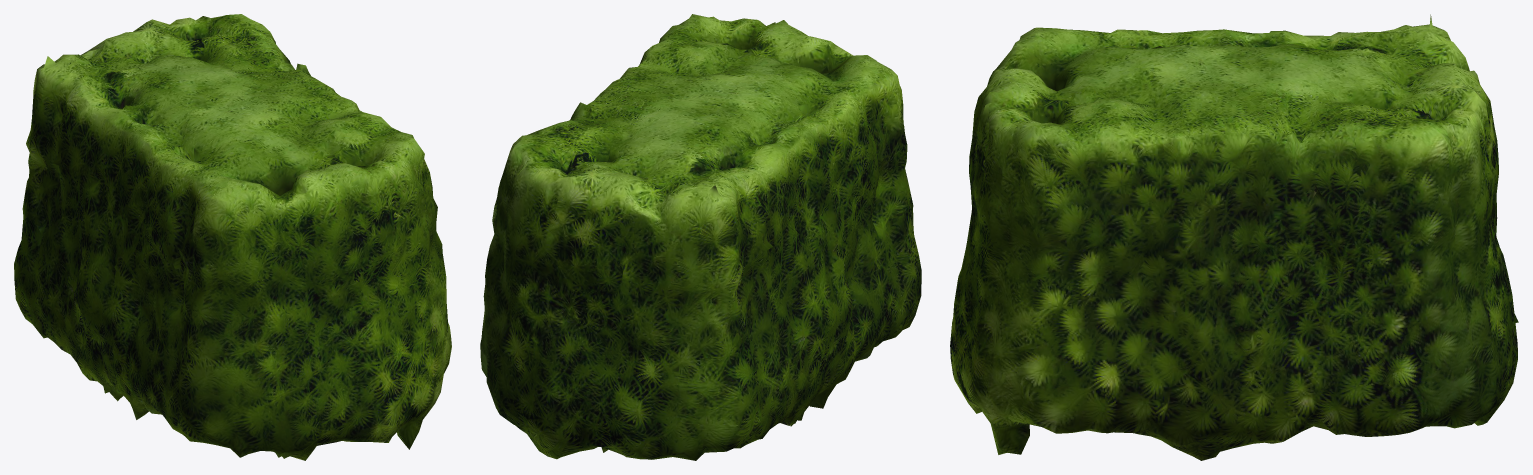
File: shrub.fbx
The picture shows the model from 3 angles, left to right: view 1: azimuth 30°, elevation 25°; view 2: azimuth 150°, elevation 25°; view 3: azimuth 270°, elevation 25°; orthographic projection. The views are drawn at different scales.
Parts seen in each view (by area): view 1: tripo_node_783ed432; view 2: tripo_node_783ed432; view 3: tripo_node_783ed432.
Part boxes in pixels (<box>): tripo_node_783ed432: <box>14,14,451,460</box>; tripo_node_783ed432: <box>480,14,921,460</box>; tripo_node_783ed432: <box>950,14,1518,460</box>.
Size of the model in its own units: 0.6266 by 0.6434 by 0.965.
1 material, 1 textured.
